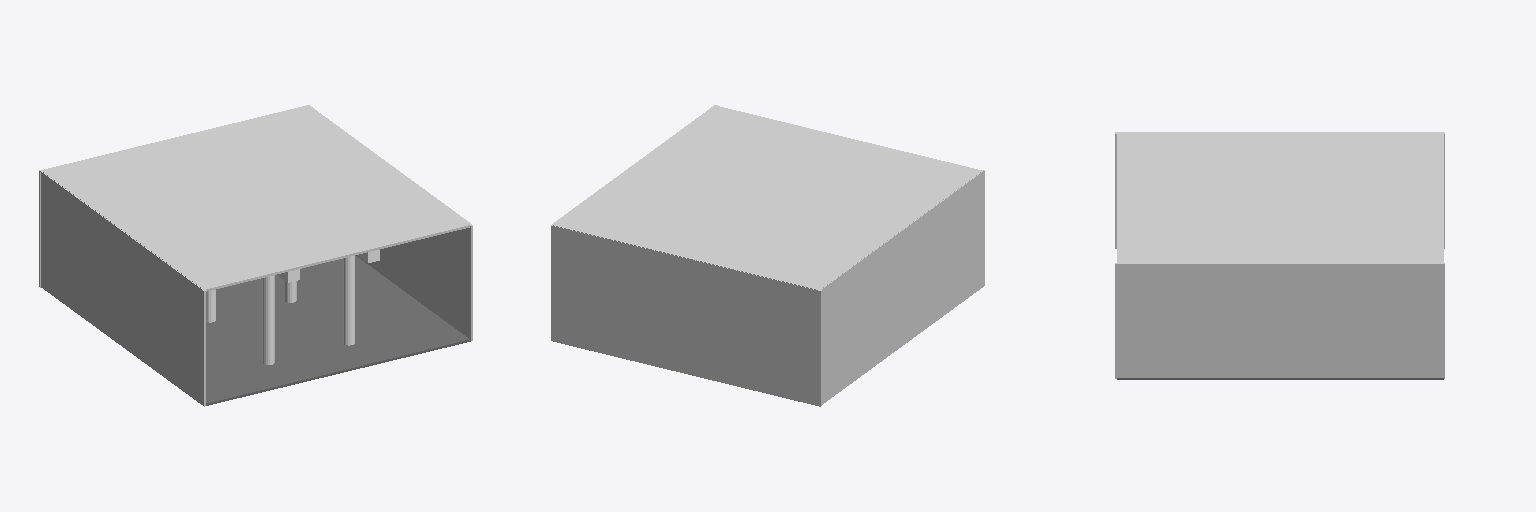
The model's file is RoomPresetTRY2.obj.
3 views of the same model, side by side, from view 1: azimuth 30°, elevation 25°; view 2: azimuth 150°, elevation 25°; view 3: azimuth 270°, elevation 25° (orthographic).
Visible parts, largest first — view 1: Structure ALL roof, floor Structure ALL, Structure ALL wall7, Structure ALL wall6, ALL columns pCylinder3, ALL columns pCylinder4; view 2: Structure ALL roof, Structure ALL wall3, Structure ALL wall7; view 3: Structure ALL roof, Structure ALL wall6, Structure ALL wall7, floor Structure ALL.
Boxes of the visible parts, box(x1,y1,x2,y2) form: Structure ALL roof: box(41, 105, 471, 291); floor Structure ALL: box(206, 255, 470, 405); Structure ALL wall7: box(39, 170, 205, 406); Structure ALL wall6: box(356, 225, 472, 340); ALL columns pCylinder3: box(262, 275, 274, 364); ALL columns pCylinder4: box(343, 256, 354, 345); Structure ALL roof: box(552, 105, 981, 289); Structure ALL wall3: box(553, 226, 821, 406); Structure ALL wall7: box(818, 170, 984, 406); Structure ALL roof: box(1117, 133, 1443, 265); Structure ALL wall6: box(1115, 263, 1444, 378); Structure ALL wall7: box(1115, 132, 1444, 248); floor Structure ALL: box(1117, 378, 1443, 379).
Size of the model in its own units: 157 by 64.86 by 166.